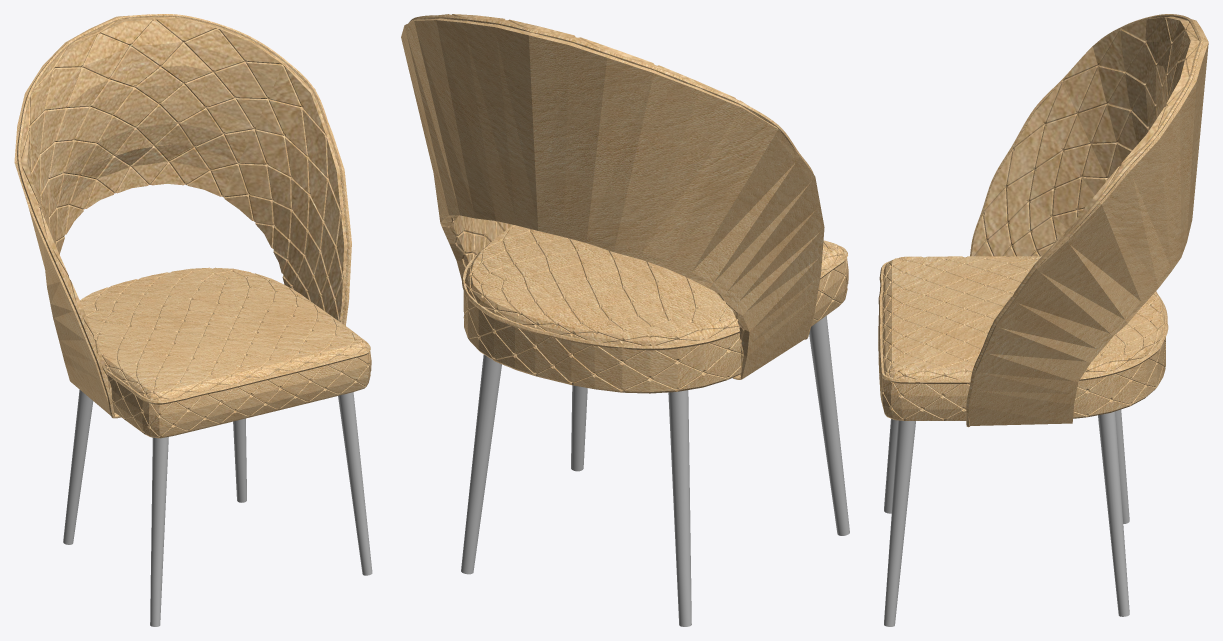
Rendered from chair.fbx.
The picture shows the model from 3 angles, left to right: view 1: azimuth 30°, elevation 25°; view 2: azimuth 150°, elevation 25°; view 3: azimuth 270°, elevation 25°; orthographic projection. The views are drawn at different scales.
Parts seen in each view (by area): view 1: Front_Backrest, Cushion, Back_Backrest, LiningBackrest, Leg01, Leg02, Leg004, LiningCushion, Leg003, Toe01, Toe02; view 2: Back_Backrest, Cushion, Front_Backrest, Leg004, Leg01, Leg003, LiningCushion, LiningBackrest, Toe04, Toe03, Toe01, Toe02; view 3: Back_Backrest, Front_Backrest, Cushion, LiningBackrest, Leg02, Leg003, LiningCushion, Toe03, Toe02, Leg004.
Boxes of the visible parts, left/top/right/bottom form: Front_Backrest: left=21, top=17, right=347, bottom=414; Cushion: left=80, top=267, right=371, bottom=438; Back_Backrest: left=14, top=14, right=351, bottom=415; LiningBackrest: left=17, top=14, right=350, bottom=418; Leg01: left=150, top=437, right=168, bottom=581; Leg02: left=338, top=392, right=367, bottom=532; Leg004: left=67, top=389, right=93, bottom=502; LiningCushion: left=106, top=305, right=370, bottom=404; Leg003: left=233, top=418, right=246, bottom=462; Toe01: left=150, top=580, right=162, bottom=626; Toe02: left=356, top=530, right=372, bottom=575; Back_Backrest: left=401, top=18, right=824, bottom=379; Cushion: left=463, top=225, right=848, bottom=393; Front_Backrest: left=439, top=14, right=746, bottom=378; Leg004: left=668, top=390, right=690, bottom=570; Leg01: left=809, top=316, right=844, bottom=482; Leg003: left=466, top=354, right=501, bottom=519; LiningCushion: left=462, top=225, right=847, bottom=350; LiningBackrest: left=408, top=15, right=813, bottom=339; Toe04: left=676, top=568, right=691, bottom=626; Toe03: left=461, top=517, right=480, bottom=574; Toe01: left=830, top=479, right=849, bottom=535; Toe02: left=571, top=417, right=586, bottom=471; Back_Backrest: left=968, top=19, right=1208, bottom=425; Front_Backrest: left=971, top=16, right=1199, bottom=322; Cushion: left=878, top=256, right=1165, bottom=420; LiningBackrest: left=966, top=14, right=1203, bottom=427; Leg02: left=887, top=420, right=915, bottom=577; Leg003: left=1098, top=411, right=1126, bottom=567; LiningCushion: left=878, top=261, right=1168, bottom=383; Toe03: left=1113, top=565, right=1129, bottom=616; Toe02: left=884, top=576, right=899, bottom=626; Leg004: left=1115, top=409, right=1126, bottom=478.
Size of the model in its own units: 27.15 by 40.87 by 23.19.
Materials: 3 (1 with a texture image).
